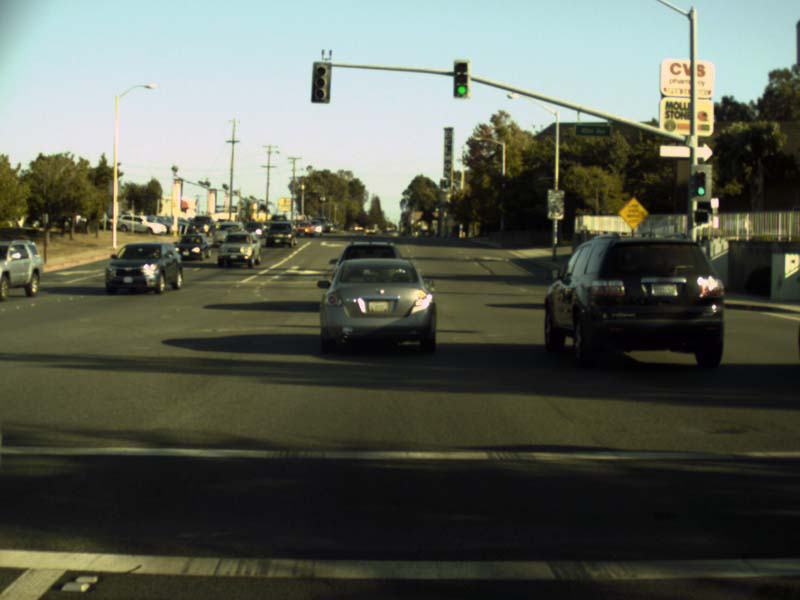Green: (453, 60, 469, 97), (696, 171, 705, 195)
